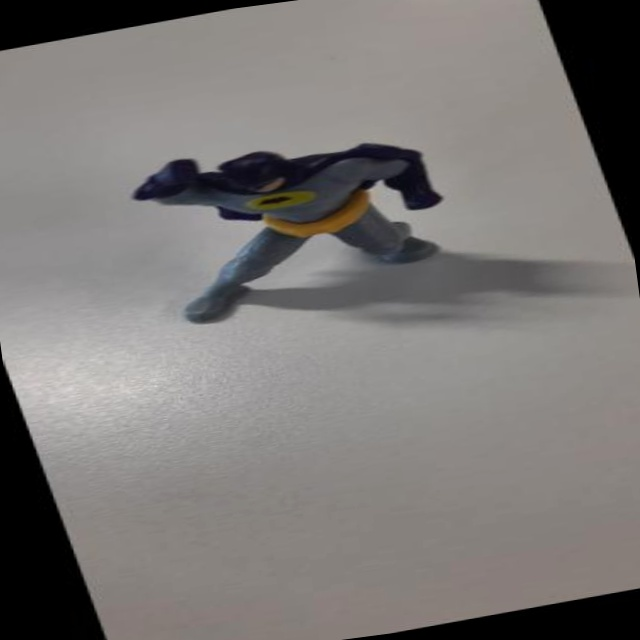Batman: (100, 104, 488, 339)
